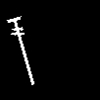treble_crochet: (7, 17, 33, 84)
